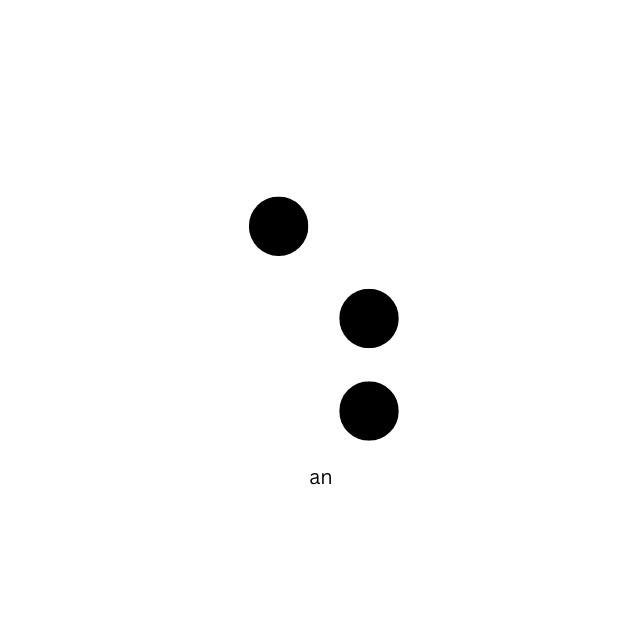one_cell_part_word_an: (247, 195, 398, 442)
